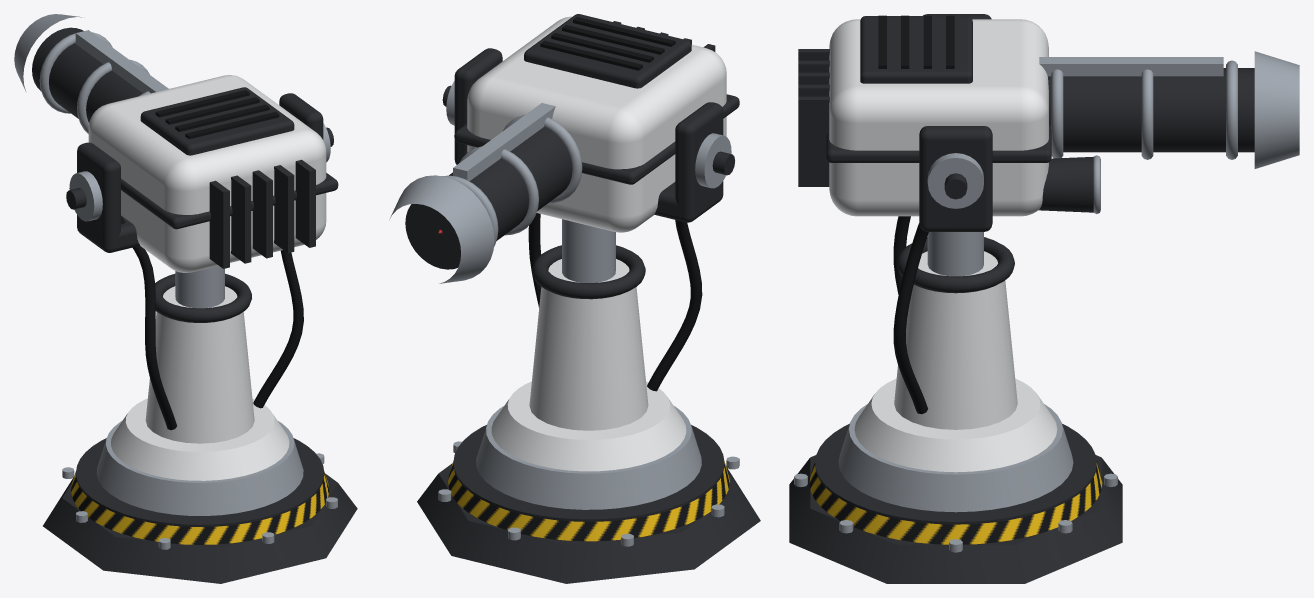
The model's file is rocket_turret.glb.
3 views of the same model, side by side, from view 1: azimuth 30°, elevation 25°; view 2: azimuth 150°, elevation 25°; view 3: azimuth 270°, elevation 25° (orthographic). The views are drawn at different scales.
Parts seen in each view (by area): view 1: turn, head, group, tube; view 2: turn, head, group, tube; view 3: turn, head, group, tube.
Part boxes in pixels (box(x1,y1,x2,y2)): turn: box(66, 93, 333, 515); head: box(88, 75, 338, 272); group: box(43, 438, 357, 583); tube: box(14, 14, 169, 133); turn: box(442, 48, 734, 509); head: box(454, 14, 739, 232); group: box(417, 425, 760, 583); tube: box(390, 103, 582, 283); turn: box(838, 14, 1073, 512); head: box(798, 15, 1100, 216); group: box(789, 424, 1122, 583); tube: box(1039, 51, 1299, 168).
Bounding box in the file's own units: 1.2 × 1.85 × 1.81.
8 materials, 1 textured.
